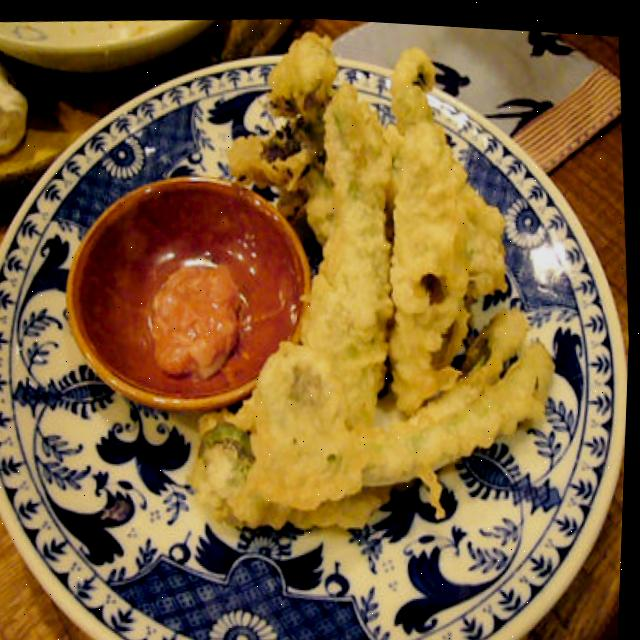蔬菜料理: (123, 6, 583, 542)
